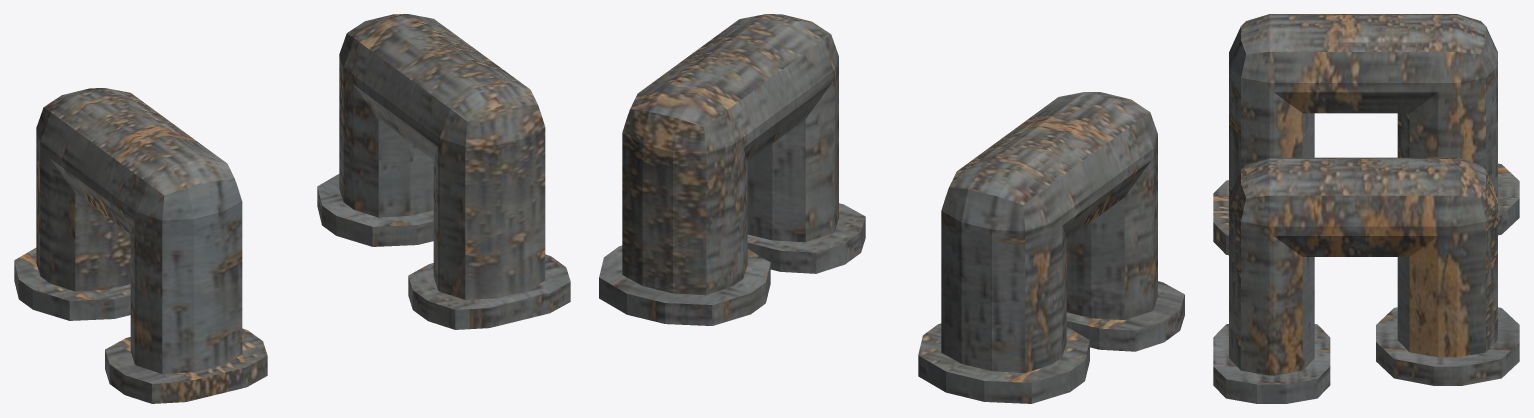
File: kerning_ladder_start.gltf
3 views of the same model, side by side, from view 1: azimuth 30°, elevation 25°; view 2: azimuth 150°, elevation 25°; view 3: azimuth 270°, elevation 25° (orthographic). The views are drawn at different scales.
Visible parts, largest first — view 1: Ladder Start; view 2: Ladder Start; view 3: Ladder Start.
Boxes of the visible parts, x1,y1,x2,y2 form: Ladder Start: (14, 14, 570, 403); Ladder Start: (599, 14, 1184, 403); Ladder Start: (1213, 14, 1519, 403).
Size of the model in its own units: 2.19 by 0.9991 by 1.35.
Materials: 1 (1 with a texture image).
